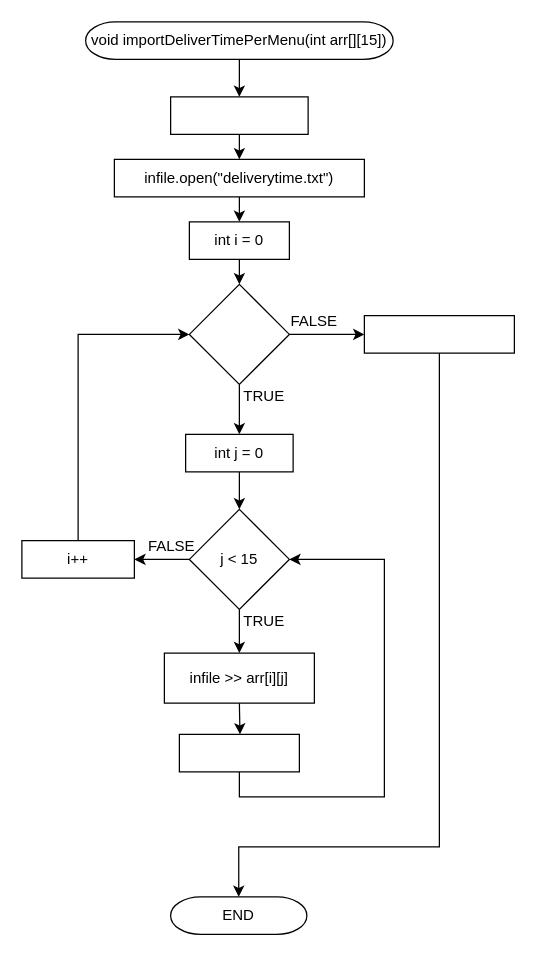
Some shapes in this 536 by 956 pixel diagram are drawn without their labels. Here are the shapes that lost their labels. From the top down, the centre of each, then its label:
At (238,115): "ifstream infile".
At (238,333): "i < 10".
At (438,333): "infile.close()".
At (238,752): "j++".
